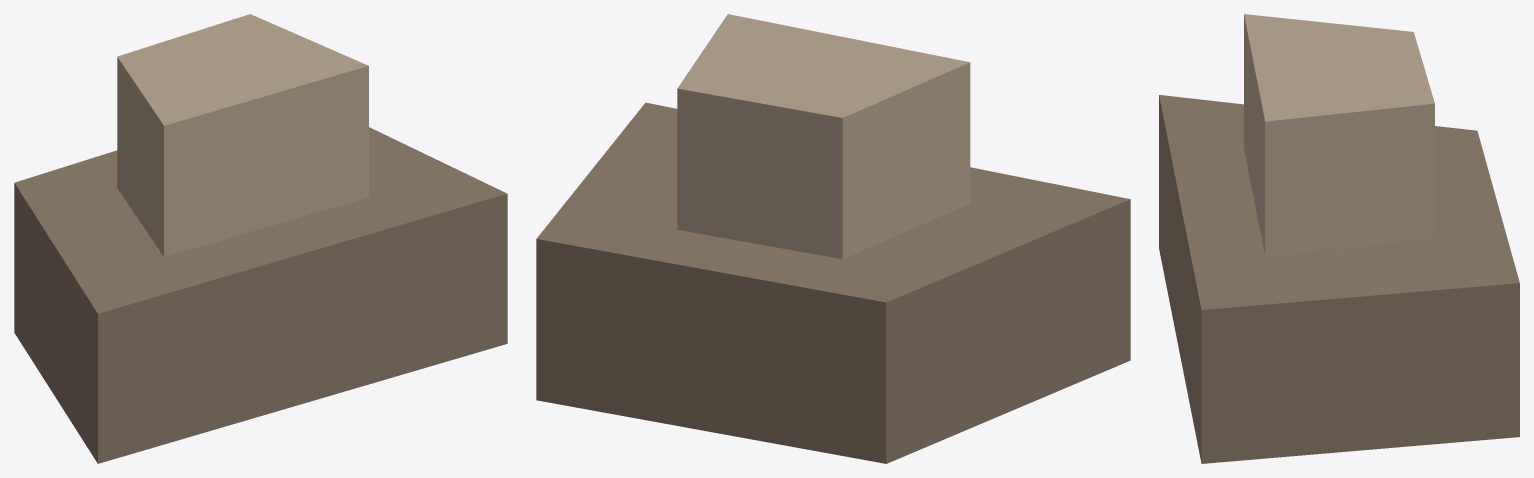
The model's file is debris-2.glb.
3 renders of one model, left to right at view 1: azimuth 30°, elevation 25°; view 2: azimuth 150°, elevation 25°; view 3: azimuth 270°, elevation 25°, orthographic. The views are drawn at different scales.
Parts seen in each view (by area): view 1: debris-2; view 2: debris-2; view 3: debris-2.
Part boxes in pixels (x1,y1,x2,y2): debris-2: [14, 14, 507, 463]; debris-2: [536, 14, 1130, 463]; debris-2: [1159, 14, 1519, 463].
Bounding box in the file's own units: 0.48 × 0.3 × 0.34.
